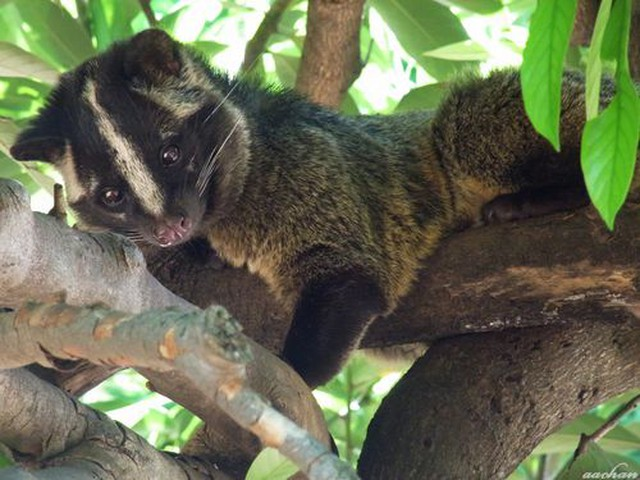civet: (11, 29, 620, 354)
